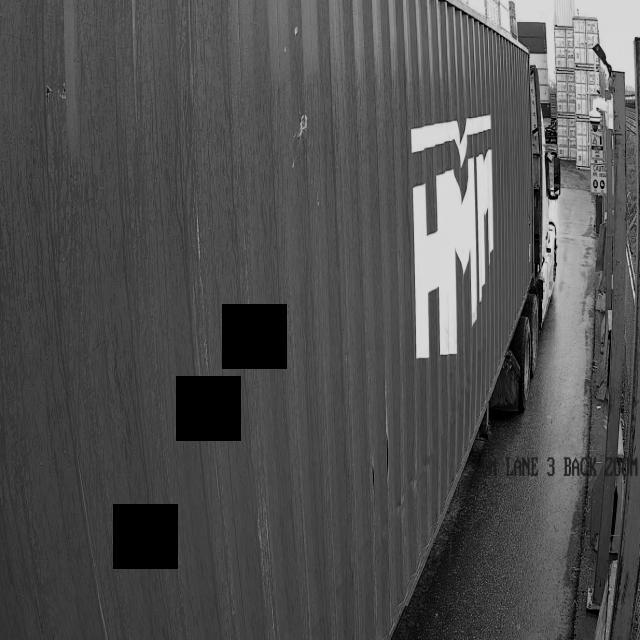container_company_logo: (375, 88, 545, 377)
truck_with_container: (0, 0, 548, 640)
